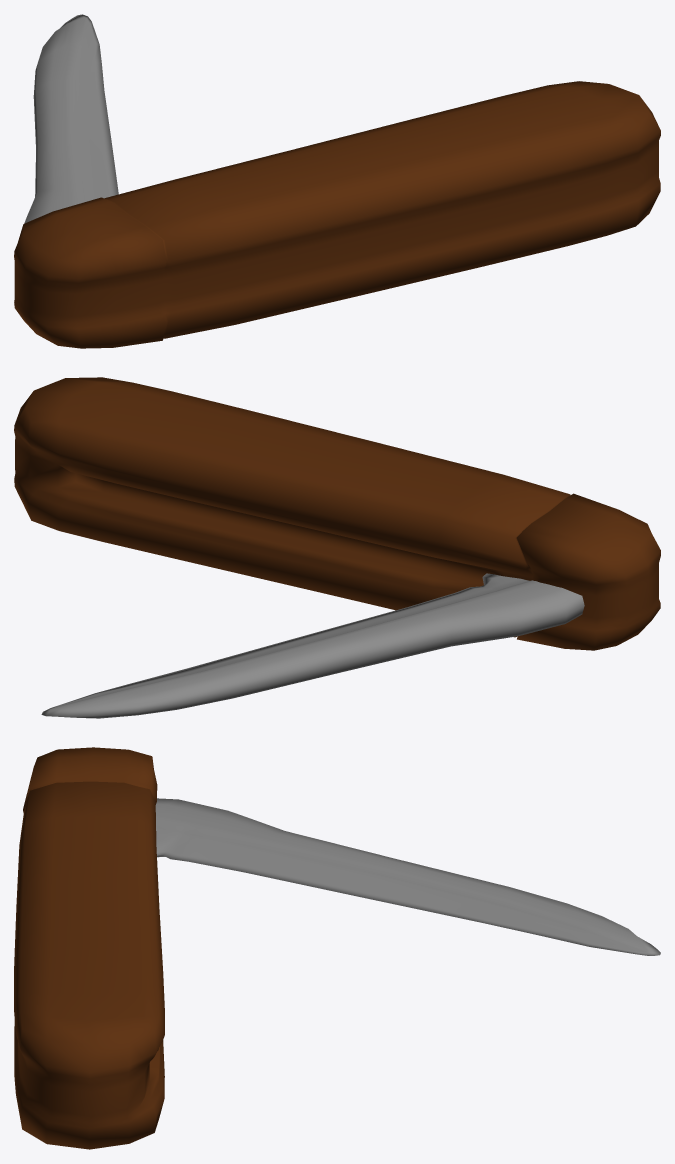
Rendered from PocketKnifeRiggedNONTEXTUREfbx.fbx.
3 renders of one model, top to bottom at view 1: azimuth 30°, elevation 25°; view 2: azimuth 150°, elevation 25°; view 3: azimuth 270°, elevation 25°, orthographic. The views are drawn at different scales.
Visible parts, largest first — view 1: KnifeHolder, Blade; view 2: KnifeHolder, Blade; view 3: KnifeHolder, Blade.
Part boxes in pixels (x1,y1,x2,y2): KnifeHolder: [14, 81, 660, 348]; Blade: [24, 14, 118, 223]; KnifeHolder: [14, 377, 660, 650]; Blade: [41, 573, 584, 718]; KnifeHolder: [14, 747, 164, 1149]; Blade: [155, 798, 660, 955].
Bounding box in the file's own units: 315 × 54.66 × 271.
